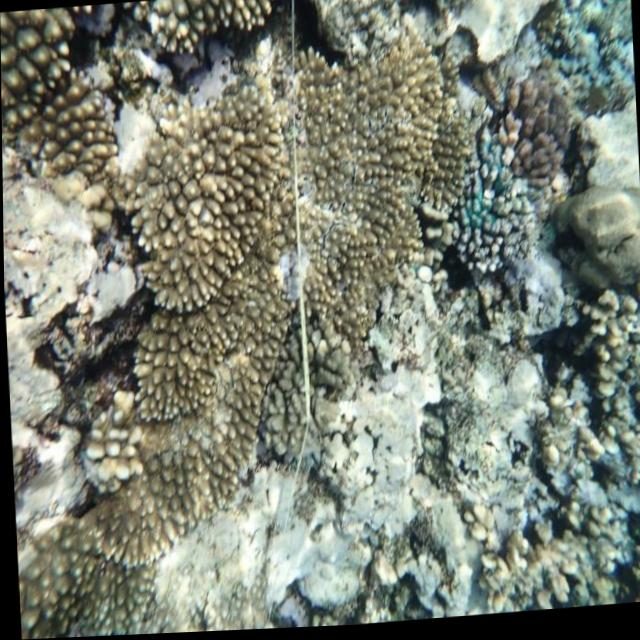Bleached Coral: (147, 462, 377, 635), (311, 303, 453, 558), (2, 143, 119, 367), (6, 352, 98, 543)
Healthy Coral: (114, 108, 297, 472), (286, 48, 484, 307), (486, 80, 579, 194)
